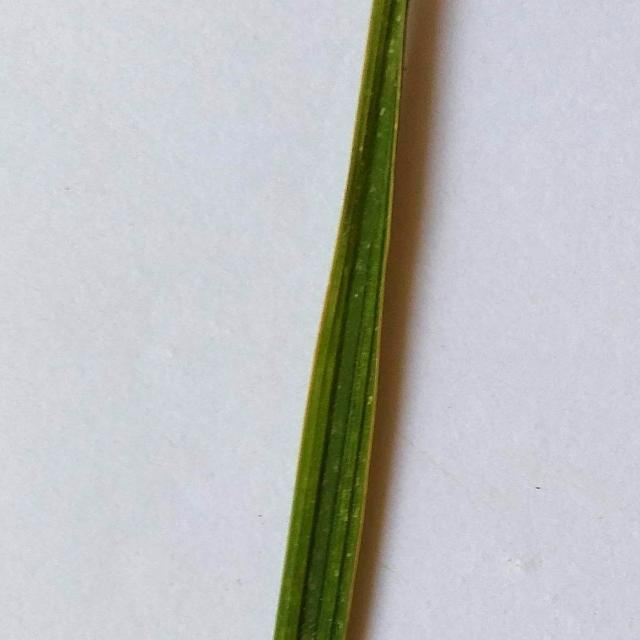Rice_Healthy: (273, 0, 408, 640)
